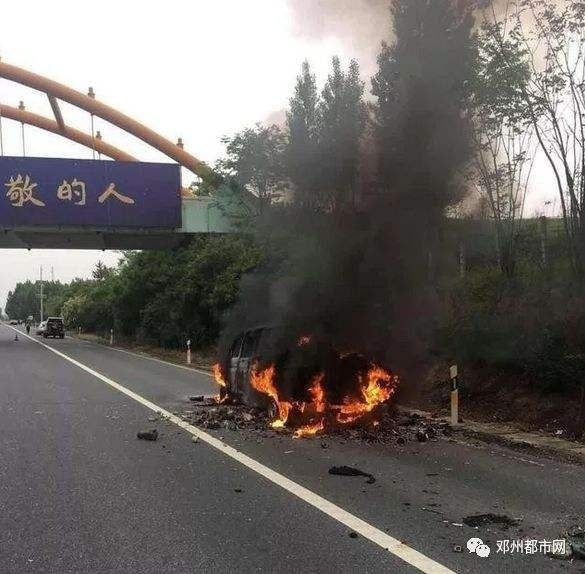fire: (246, 350, 396, 437)
